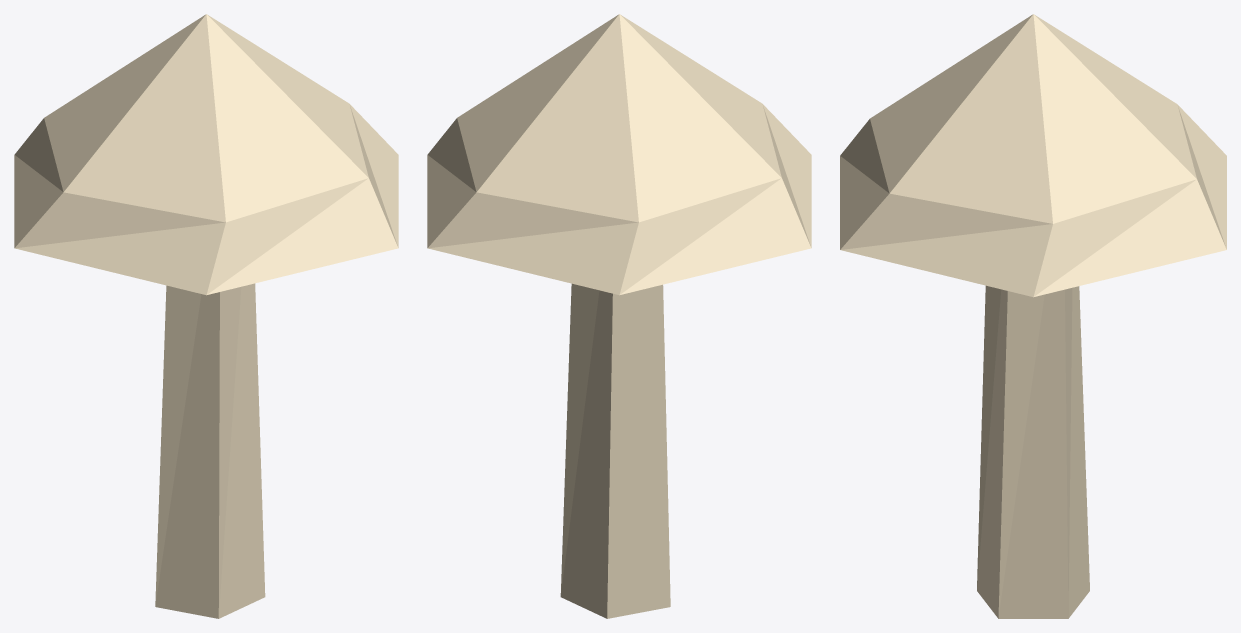
The picture shows the model from 3 angles, left to right: view 1: azimuth 30°, elevation 25°; view 2: azimuth 150°, elevation 25°; view 3: azimuth 270°, elevation 25°; orthographic projection.
Parts seen in each view (by area): view 1: 原森林蘑菇_2.001; view 2: 原森林蘑菇_2.001; view 3: 原森林蘑菇_2.001.
Boxes of the visible parts, x1=… form: 原森林蘑菇_2.001: x1=14, y1=14, x2=398, y2=618; 原森林蘑菇_2.001: x1=427, y1=14, x2=811, y2=618; 原森林蘑菇_2.001: x1=840, y1=14, x2=1226, y2=618.
Bounding box in the file's own units: 0.09 × 0.13 × 0.0779.
